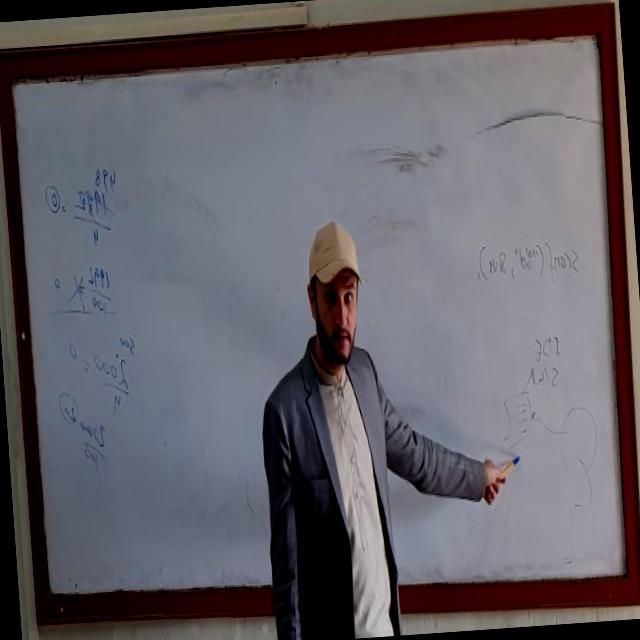Instructor: (243, 191, 411, 640)
White-board: (3, 21, 634, 611)
